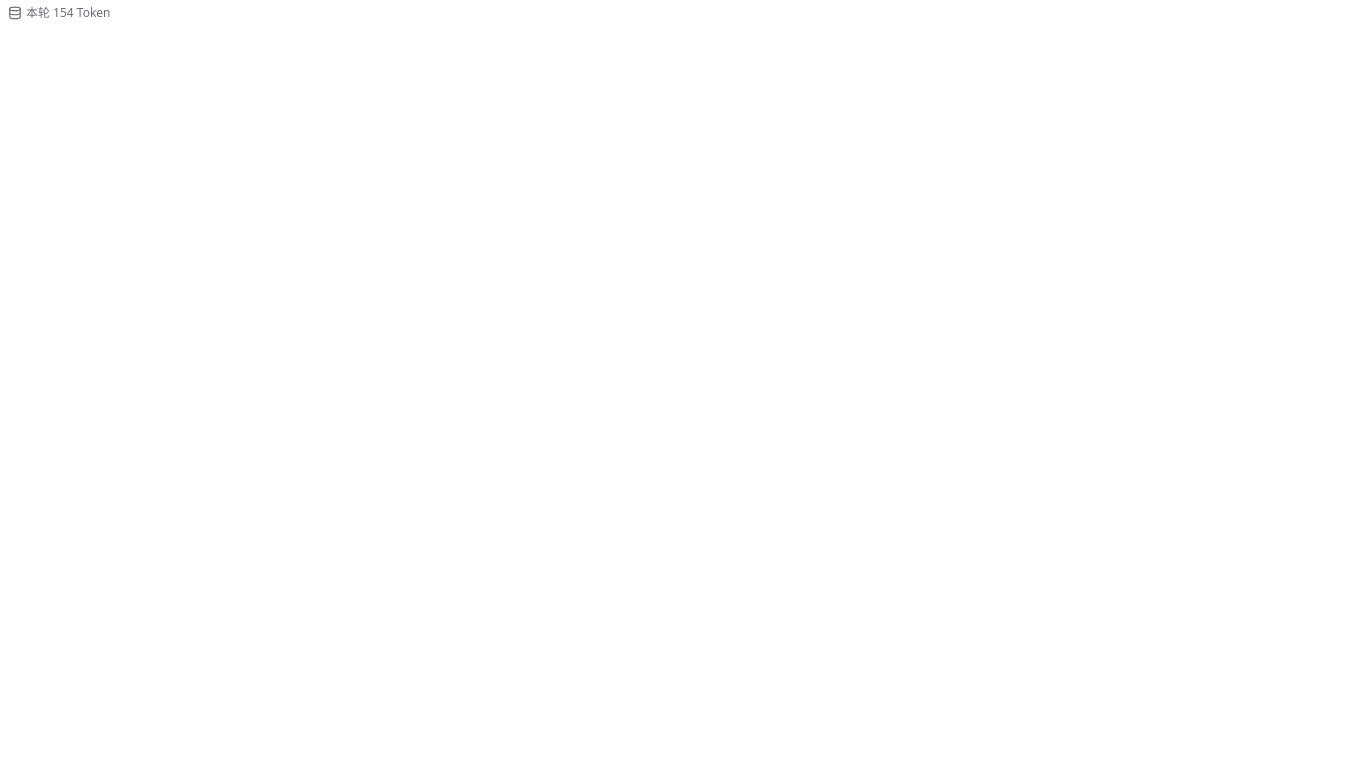
Test: 单轮 Token 用量 › Escape 与点击外部都能关闭详情
The width and height of the screenshot is (1366, 768).
Click the button "本轮 154 Token".
click(59, 13)  # box [0,0,118,26]
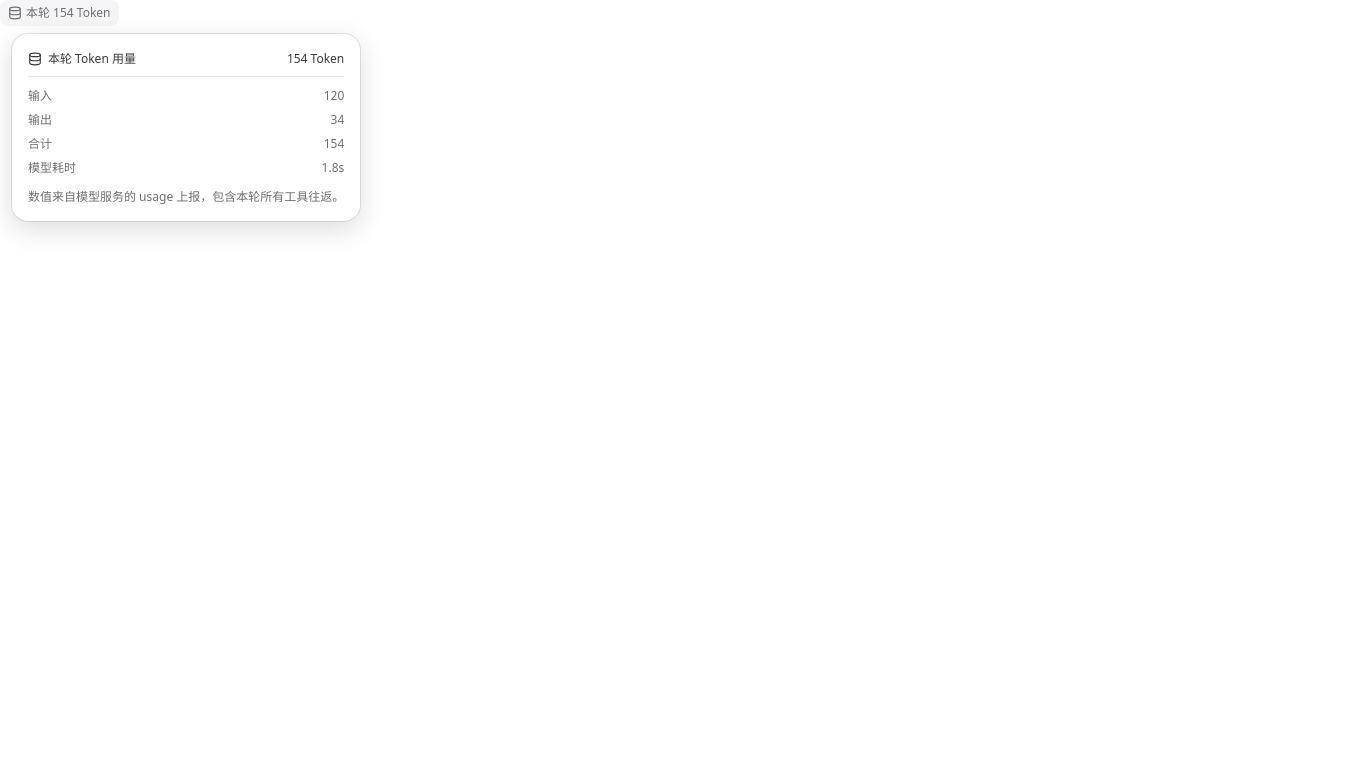
Expected: the dialog is shown, [12,34,360,221]
Press Escape
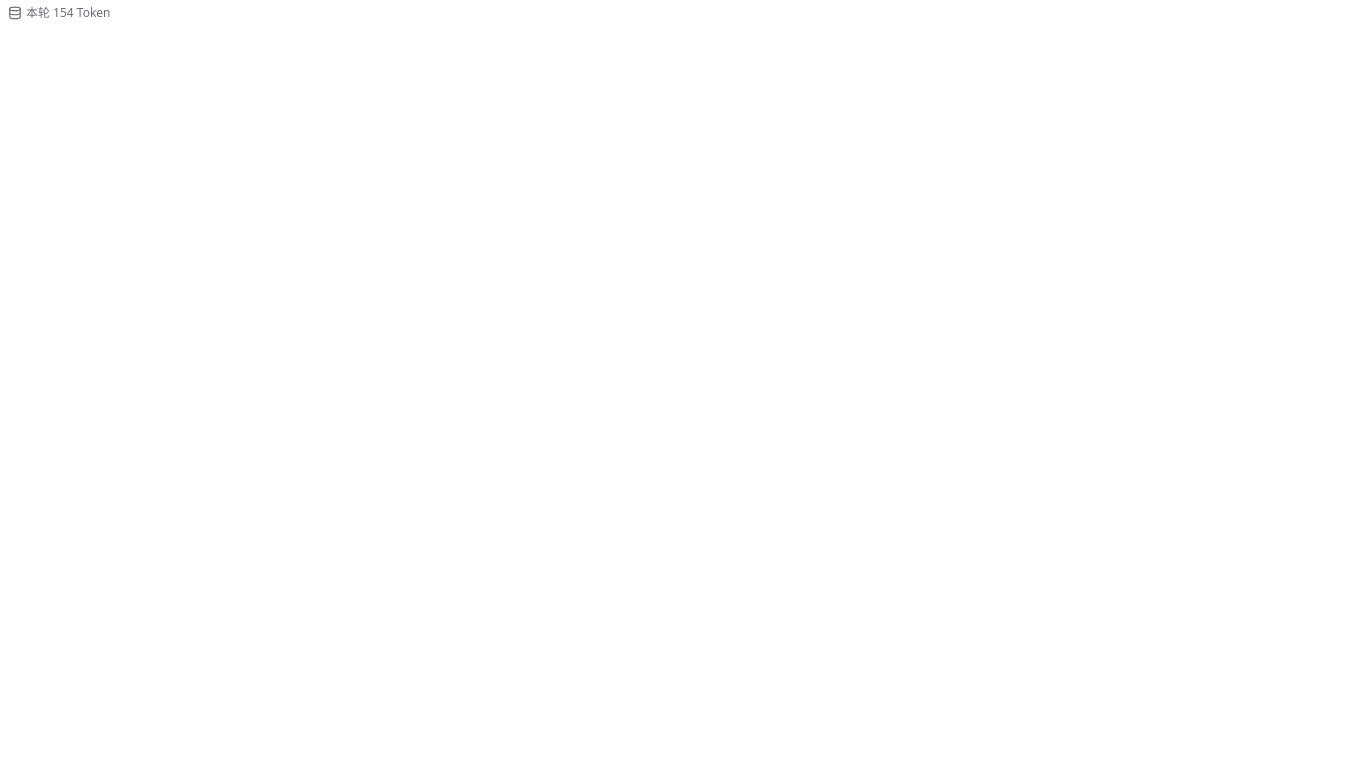
Expected: the dialog is gone
Click the button "本轮 154 Token".
click(59, 13)  # box [0,0,118,26]
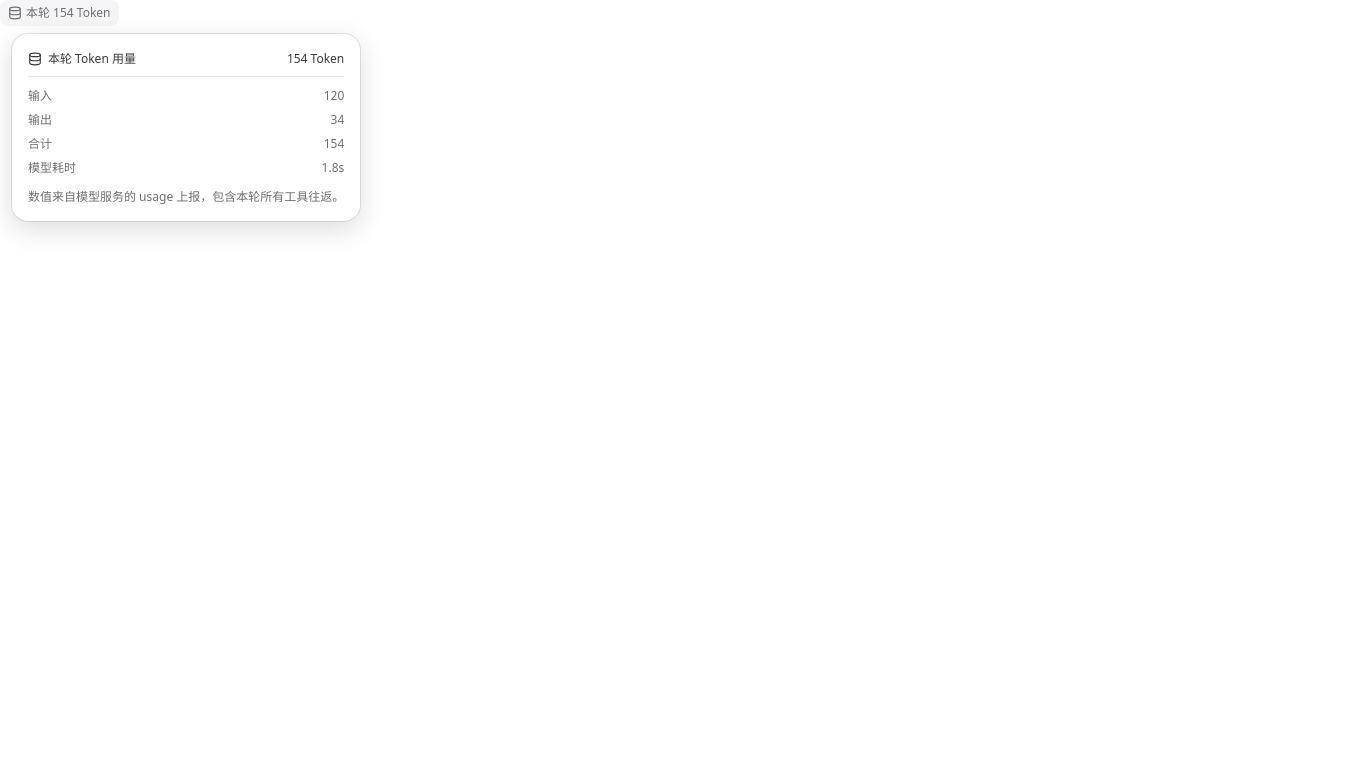
Expected: the dialog is shown, [12,34,360,221]
Press the mouse on the element that starts with "本轮 154 Token" at (683,384), box [0,0,1365,767]
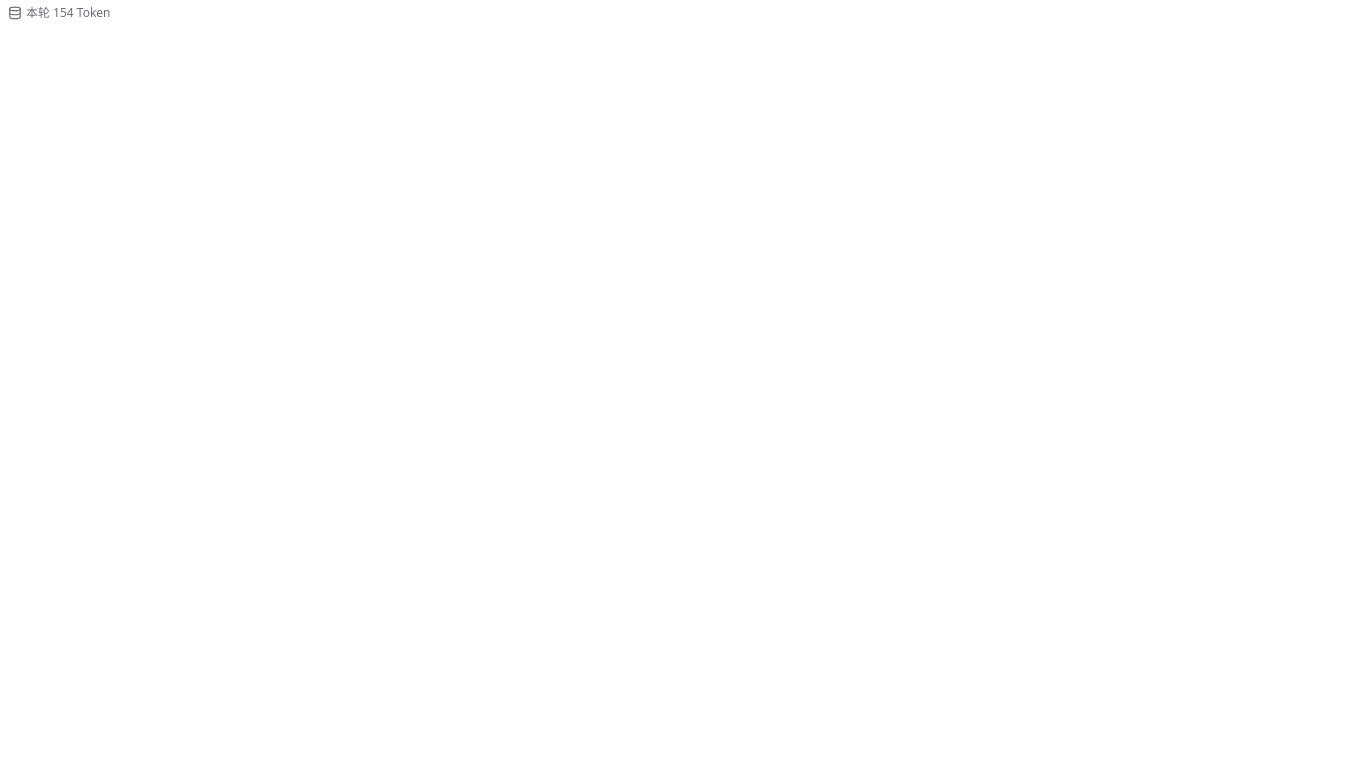
Expected: the dialog is gone
